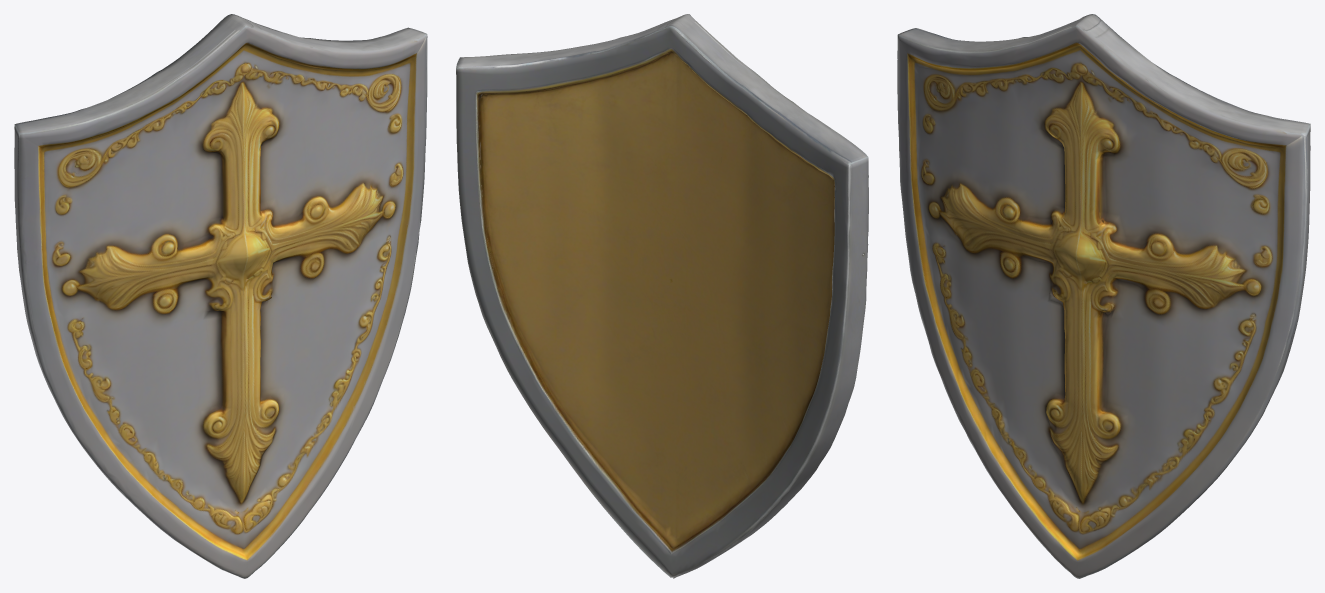
File: Game_ready_low_poly_3_0601123412_texture.fbx
3 renders of one model, left to right at view 1: azimuth 30°, elevation 25°; view 2: azimuth 150°, elevation 25°; view 3: azimuth 330°, elevation 25°, orthographic.
Visible parts, largest first — view 1: input; view 2: input; view 3: input.
Part boxes in pixels (left/top/right/bottom): input: left=14, top=14, right=427, bottom=578; input: left=456, top=14, right=868, bottom=578; input: left=897, top=14, right=1310, bottom=578.
Bounding box in the file's own units: 154 × 199 × 24.01.
1 material, 1 textured.
